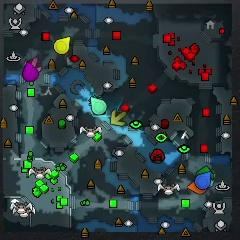p1: (195, 172, 212, 189)
p2: (90, 98, 107, 116)
p3: (23, 62, 39, 81)
p4: (55, 36, 72, 54)
p5: (188, 181, 206, 194)
x1: (24, 58, 42, 71)
x2: (110, 109, 127, 128)
x4: (196, 166, 217, 180)
